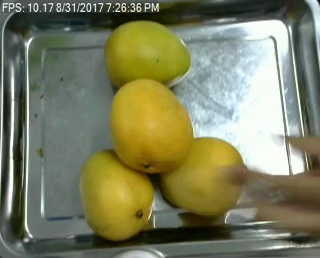Mango: (109, 78, 192, 169), (78, 148, 151, 240), (159, 138, 244, 216), (104, 19, 191, 93)
